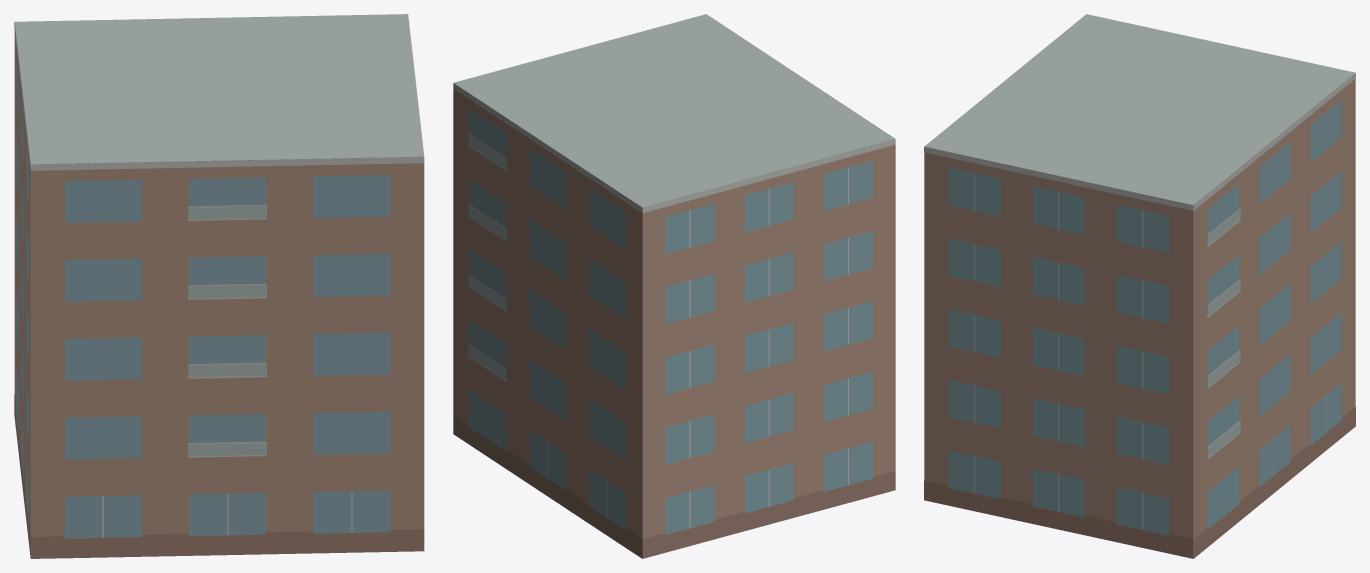
File: survey-upis-32948902.glb
3 renders of one model, left to right at view 1: azimuth 30°, elevation 25°; view 2: azimuth 150°, elevation 25°; view 3: azimuth 270°, elevation 25°, orthographic. The views are drawn at different scales.
Parts seen in each view (by area): view 1: survey-upis-32948902.tmp; view 2: survey-upis-32948902.tmp; view 3: survey-upis-32948902.tmp.
Part boxes in pixels (x1,y1,x2,y2): survey-upis-32948902.tmp: [14, 14, 424, 558]; survey-upis-32948902.tmp: [453, 14, 895, 558]; survey-upis-32948902.tmp: [924, 14, 1355, 558].
Size of the model in its own units: 17.28 by 14.9 by 16.49.
